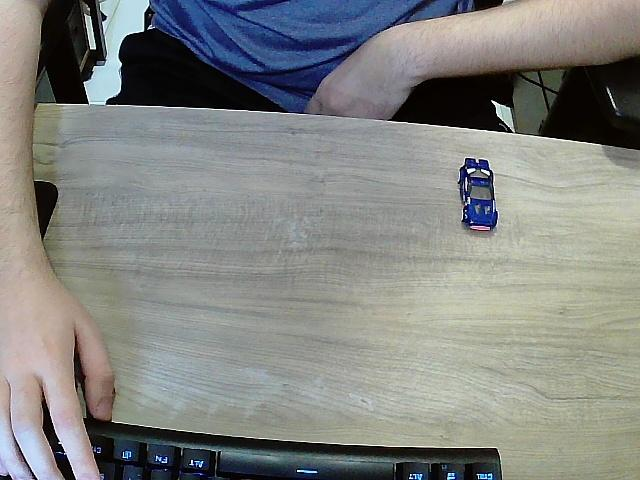Carro: (458, 158, 500, 236)
